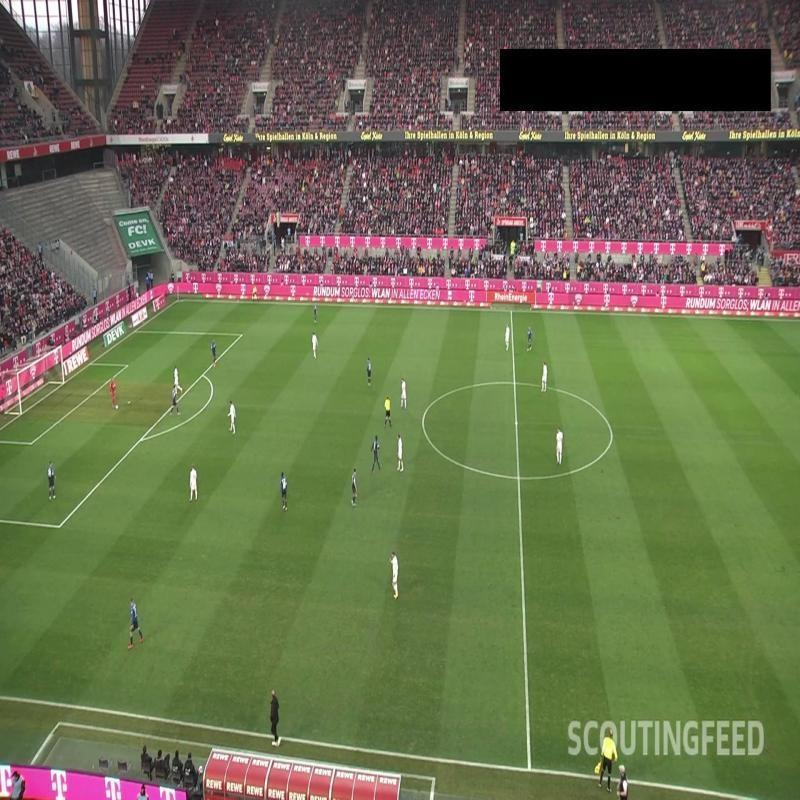1: (170, 294, 184, 308)
10: (196, 368, 210, 382)
11: (135, 432, 149, 446)
12: (53, 520, 67, 534)
13: (504, 304, 518, 318)
14: (508, 376, 522, 390)
15: (512, 471, 526, 485)
16: (518, 758, 540, 782)
2: (127, 324, 142, 338)
3: (82, 357, 96, 371)
7: (120, 359, 134, 373)
8: (25, 437, 39, 451)
9: (235, 328, 248, 342)
c: (416, 414, 431, 428), (606, 427, 619, 441)
